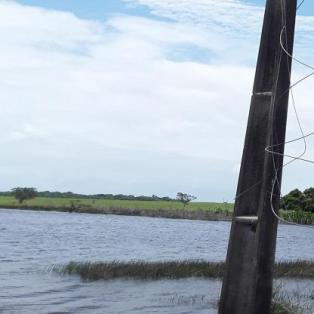Poste: (208, 0, 314, 314)
